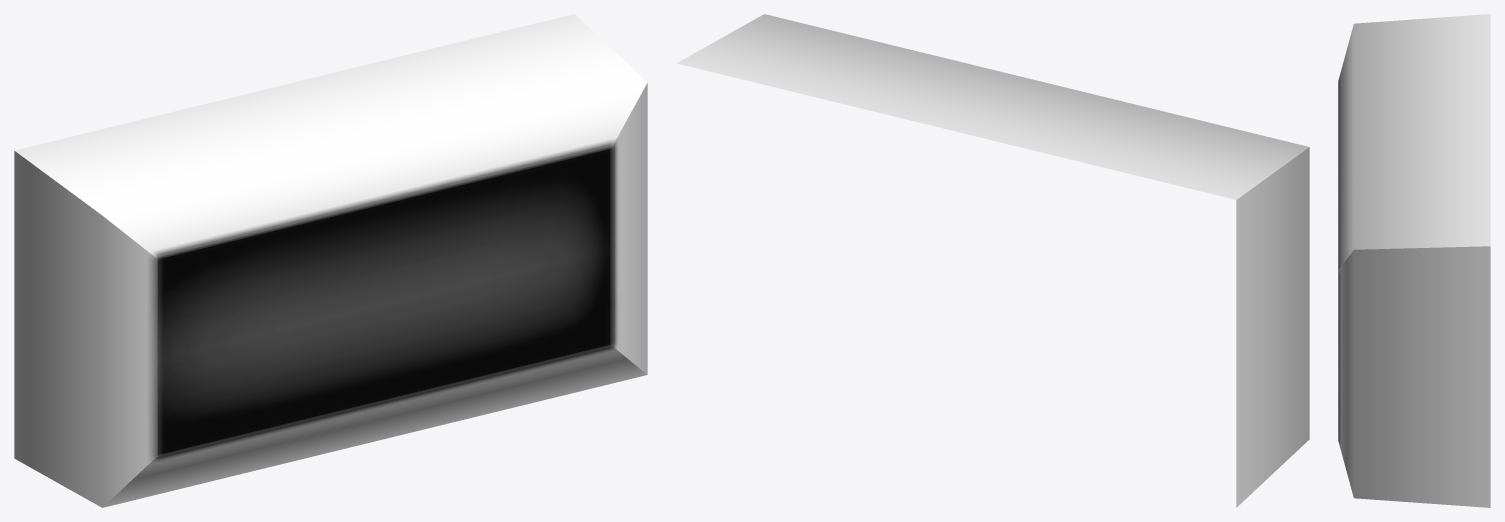
File: bbl_score_model__score_set.glb
The picture shows the model from 3 angles, left to right: view 1: azimuth 30°, elevation 25°; view 2: azimuth 150°, elevation 25°; view 3: azimuth 270°, elevation 25°; orthographic projection. The views are drawn at different scales.
Parts seen in each view (by area): view 1: polygon0; view 2: polygon0; view 3: polygon0.
Boxes of the visible parts, bbox=[...] form: polygon0: bbox=[14, 14, 647, 507]; polygon0: bbox=[677, 14, 1309, 507]; polygon0: bbox=[1338, 14, 1490, 507].
Bounding box in the file's own units: 2.16 × 1.14 × 0.6.
Materials: 1 (1 with a texture image).
